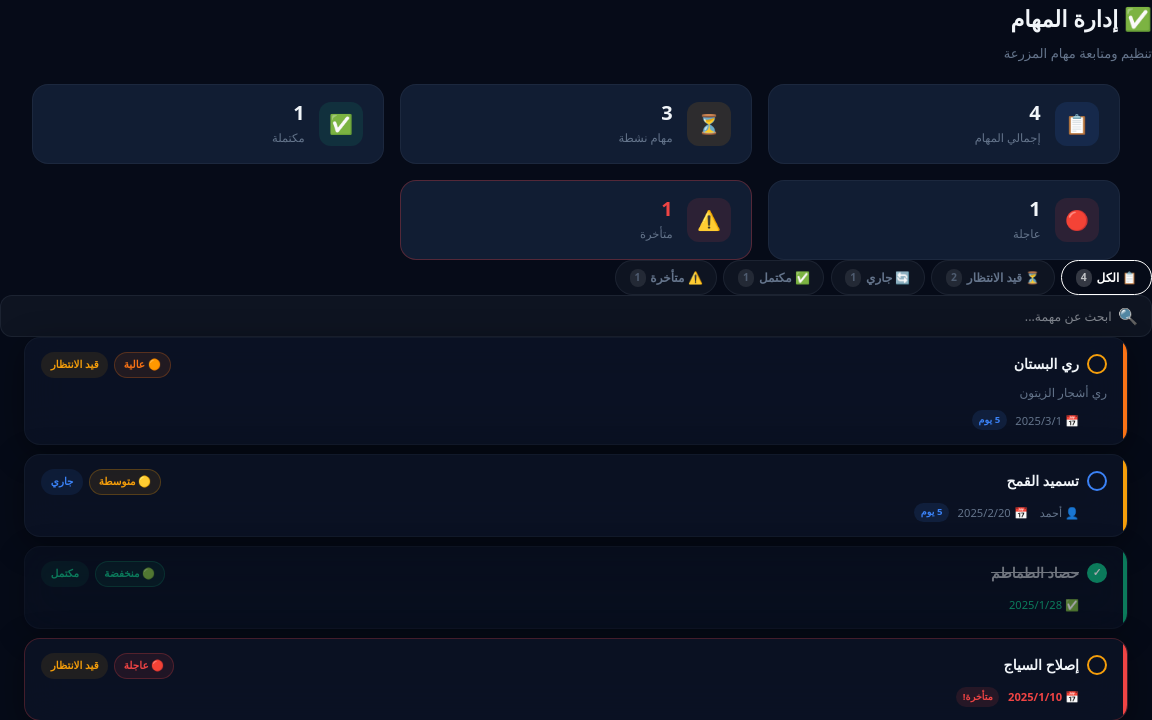
Test case: ClientTasks › shows empty state when no tasks match
This screenshot has width=1152, height=720.
In the field with placeholder "ابحث عن مهمة...": [563, 316] box [14, 306, 1112, 327], type "xxxxx"
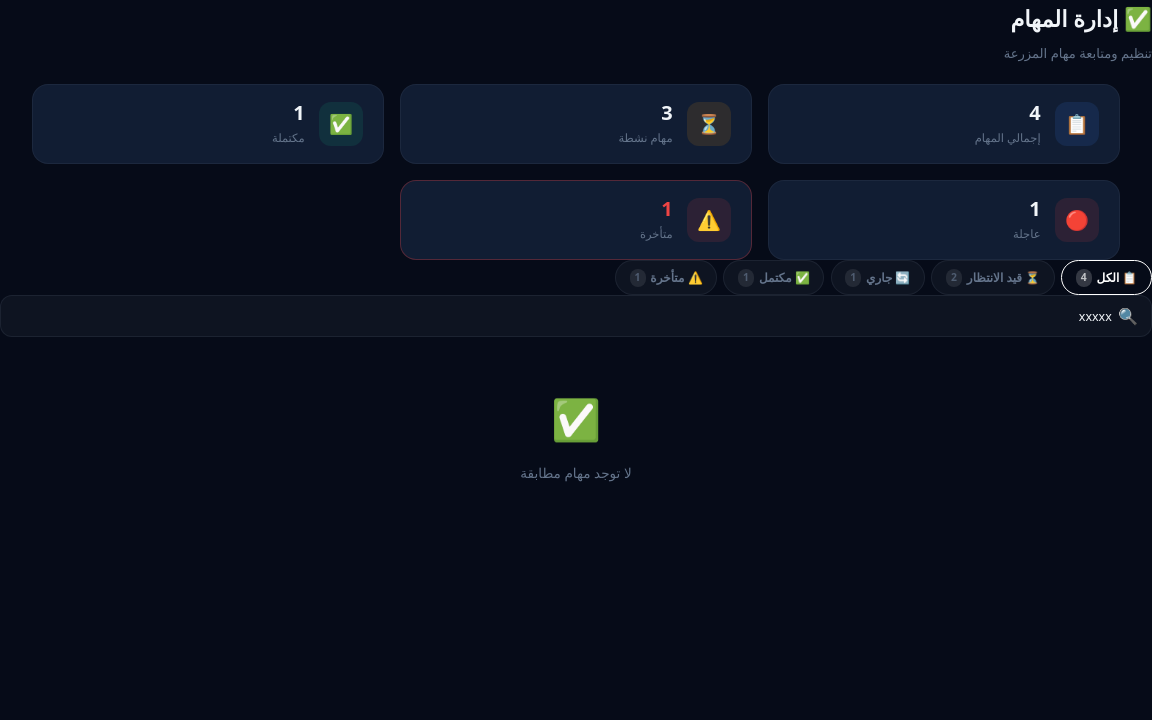
Result: the text "لا توجد مهام مطابقة" is shown at [520, 461, 632, 484]
